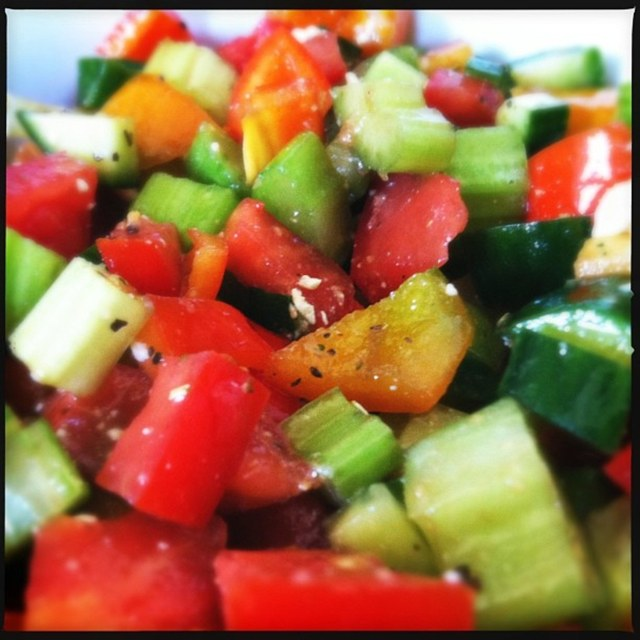tomato: (3, 10, 630, 633)
